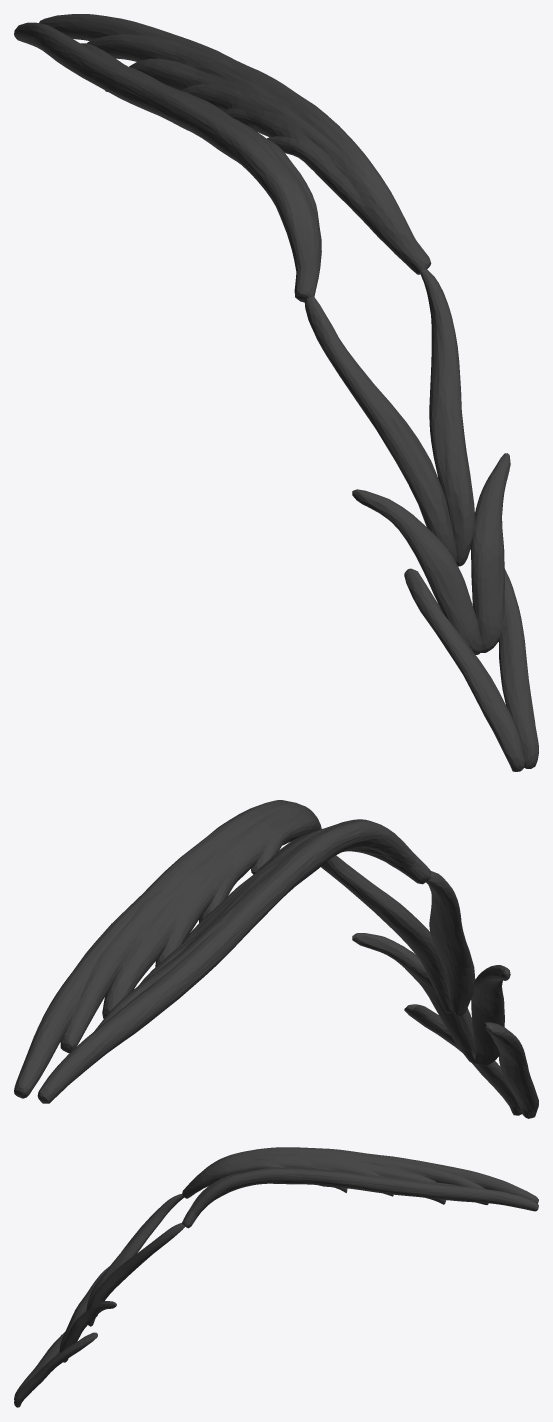
Rendered from m_longus_colli.glb.
3 renders of one model, top to bottom at view 1: azimuth 30°, elevation 25°; view 2: azimuth 150°, elevation 25°; view 3: azimuth 270°, elevation 25°, orthographic. The views are drawn at different scales.
Visible parts, largest first — view 1: m_longus_colli; view 2: m_longus_colli; view 3: m_longus_colli.
Part boxes in pixels (<box>): m_longus_colli: <box>14,14,538,771</box>; m_longus_colli: <box>14,800,538,1118</box>; m_longus_colli: <box>14,1147,538,1407</box>.
Bounding box in the file's own units: 0.00132 × 0.00378 × 0.00729.
Materials: 1 (1 with a texture image).
